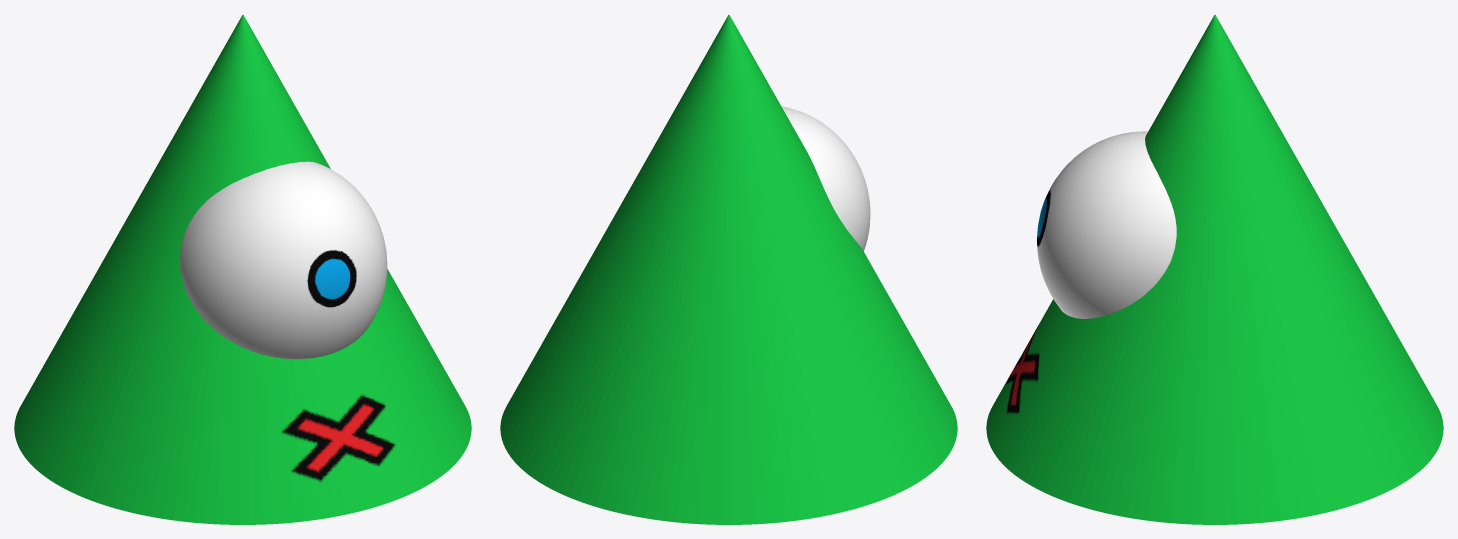
3 renders of one model, left to right at view 1: azimuth 30°, elevation 25°; view 2: azimuth 150°, elevation 25°; view 3: azimuth 270°, elevation 25°, orthographic.
Parts seen in each view (by area): view 1: node_id4, root; view 2: node_id4, root; view 3: node_id4, root.
Part boxes in pixels (bbox=[...]): node_id4: bbox=[14, 14, 471, 524]; root: bbox=[180, 161, 387, 359]; node_id4: bbox=[500, 14, 957, 524]; root: bbox=[781, 106, 870, 251]; node_id4: bbox=[986, 14, 1443, 524]; root: bbox=[1037, 131, 1176, 318].
Size of the model in its own units: 0.512 by 0.512 by 0.512.
Materials: 2 (2 with a texture image).
